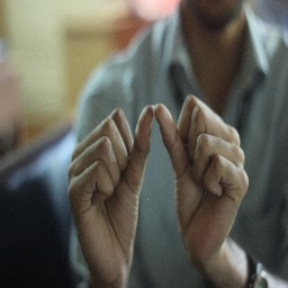A: (82, 94, 235, 232)
